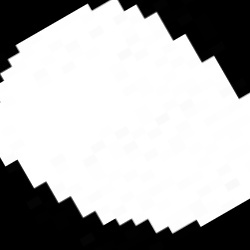spot: (1, 1, 249, 234)
